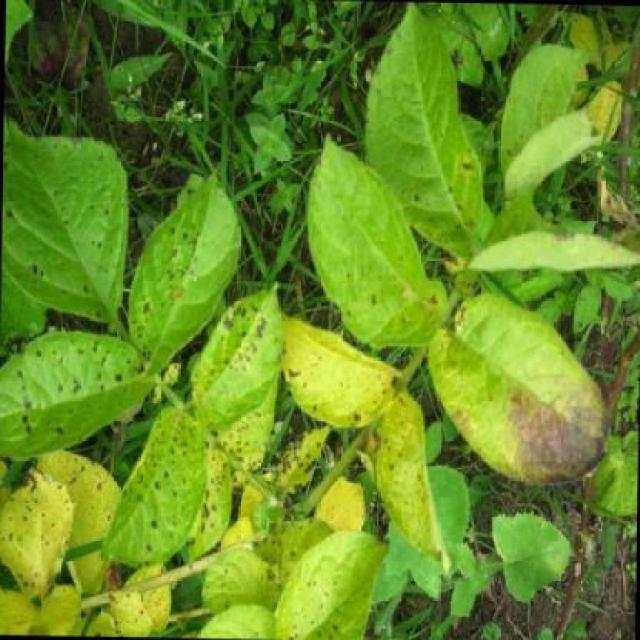Tomato leaf bacterial spot: (295, 125, 451, 352), (133, 169, 250, 389), (108, 372, 215, 586), (0, 324, 151, 464), (189, 277, 282, 445), (372, 378, 450, 564), (280, 316, 385, 430), (0, 473, 78, 589), (268, 423, 335, 502)
